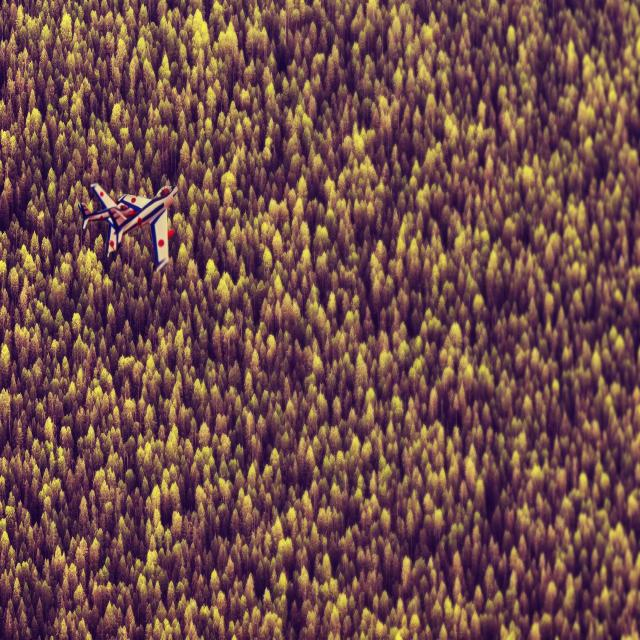airplane: (78, 180, 178, 272)
